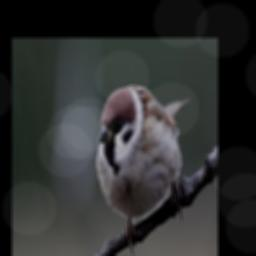Sparrow: (96, 83, 189, 253)
